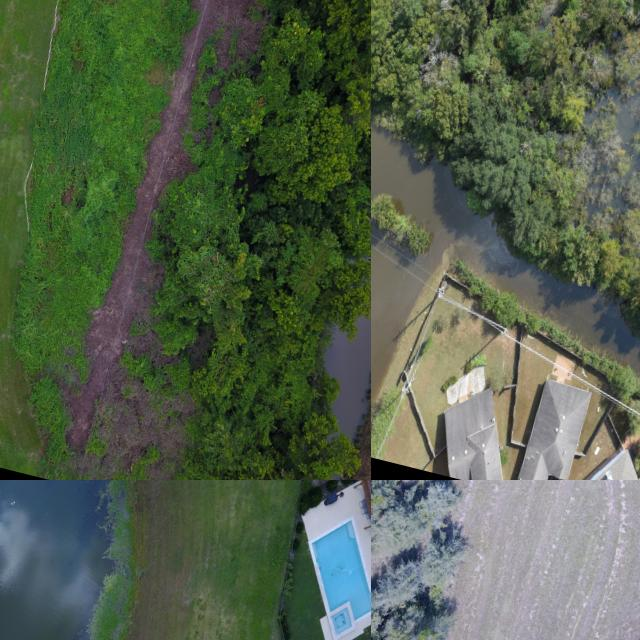fire: (371, 125, 640, 403), (0, 480, 112, 640), (327, 315, 371, 438)
